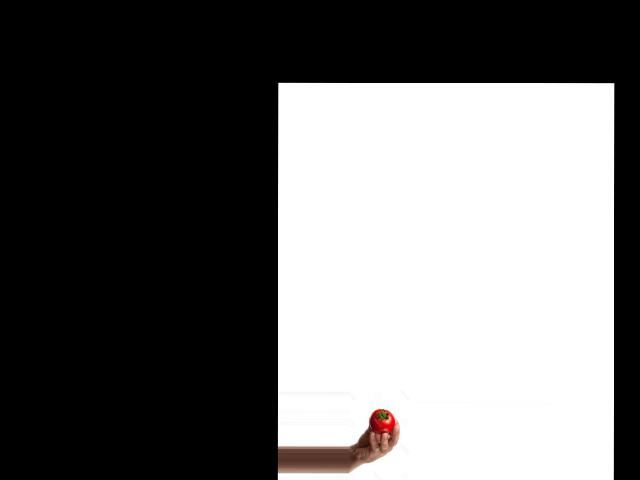tomato: (369, 408, 394, 434)
